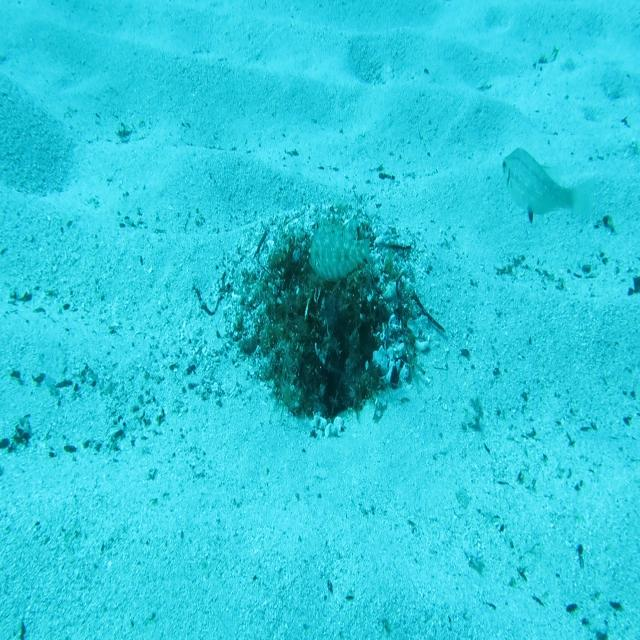NIP_CORE: (304, 213, 372, 285)
core_nest: (298, 256, 350, 294)
female: (500, 146, 598, 230)
nest: (220, 209, 440, 455)
